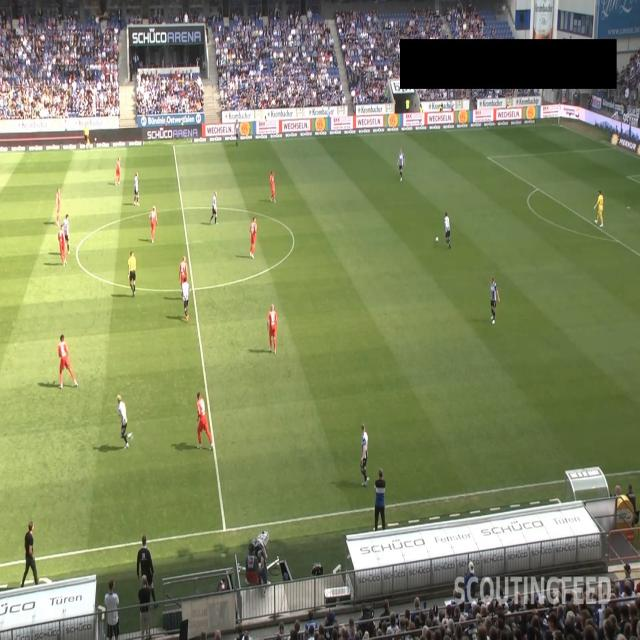ball: (435, 236, 439, 244)
